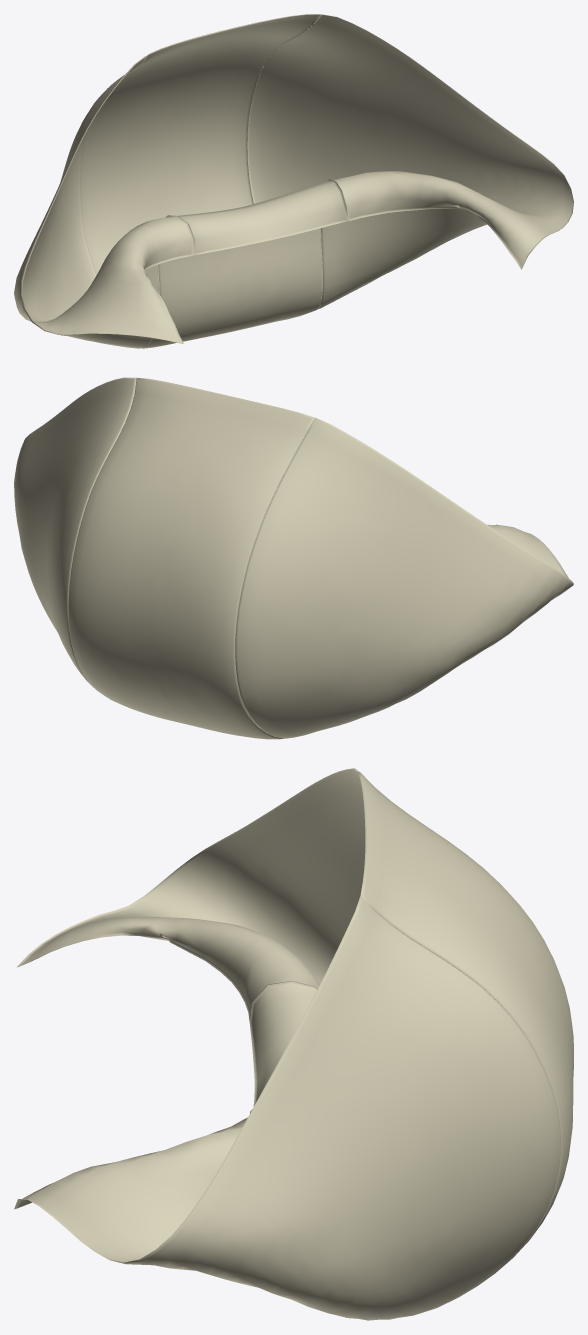
Rendered from hood-outside.glb.
The picture shows the model from 3 angles, top to bottom: view 1: azimuth 30°, elevation 25°; view 2: azimuth 150°, elevation 25°; view 3: azimuth 270°, elevation 25°; orthographic projection. The views are drawn at different scales.
Visible parts, largest first — view 1: hood_otside; view 2: hood_otside; view 3: hood_otside.
Part boxes in pixels (left/top/right/bottom): hood_otside: left=14, top=14, right=573, bottom=348; hood_otside: left=14, top=377, right=573, bottom=739; hood_otside: left=14, top=768, right=573, bottom=1320.
Bounding box in the file's own units: 0.9671 × 0.5324 × 0.6154.
